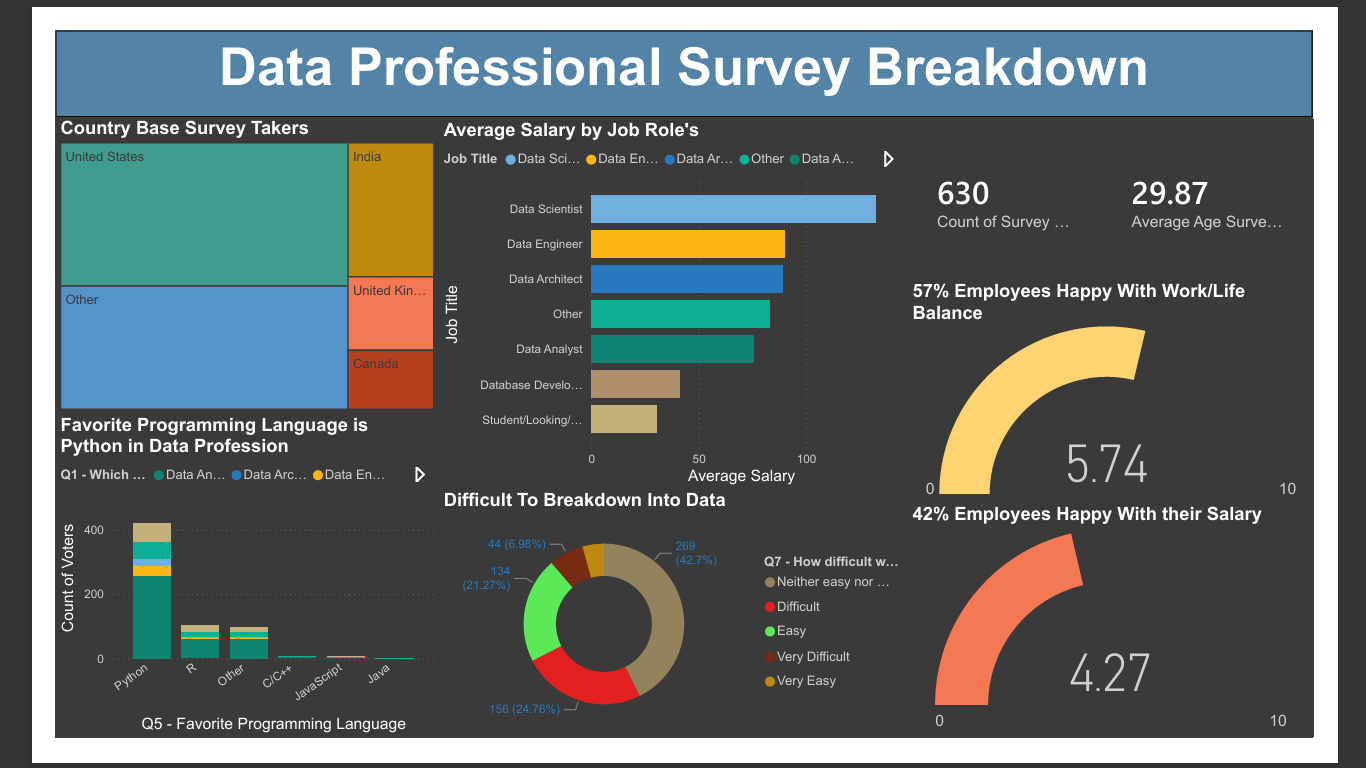

Layout of this report page (visuals, bound fields, positions):
{"tool":"powerbi","page":{"name":"Page 1","canvas":[1280,720],"ordinal":0},"visuals":[{"type":"textbox","box":[0,0,1278.8,88.5],"z":0},{"type":"cardVisual","fields":{"Data":["Avg(Data Professional Survey.Q10 - Current Age)"]},"box":[1065.4,90.4,215.4,163.5],"z":1000},{"type":"cardVisual","fields":{"Data":["Count(Data Professional Survey.Unique ID)"]},"box":[867.3,90.4,198.1,163.5],"z":2000},{"type":"barChart","title":" Average Salary by Job Role''s","fields":{"Category":["Data Professional Survey.Q1 - Which Title Best Fits your Current Role?.1"],"Y":["Avg(Data Professional Survey.Average Salary)"],"Series":["Data Professional Survey.Q1 - Which Title Best Fits your Current Role?.1"]},"box":[390.4,90.4,476.9,376.9],"z":3000},{"type":"columnChart","title":"Favorite Programming Language is Python  in  Data Profession","fields":{"Y":["CountNonNull(Data Professional Survey.Unique ID)"],"Category":["Data Professional Survey.Q5 - Favorite Programming Language.1"],"Series":["Data Professional Survey.Q1 - Which Title Best Fits your Current Role?.1"]},"box":[0,390.4,390.4,328.8],"z":4000},{"type":"treemap","title":"Country Base Survey Takers","fields":{"Group":["Data Professional Survey.Q11 - Which Country do you live in?.1"],"Values":["CountNonNull(Data Professional Survey.Q11 - Which Country do you live in?.1)"]},"box":[0,88.5,390.4,301.9],"z":5000},{"type":"gauge","title":"57% Employees Happy With Work/Life Balance","fields":{"Y":["Avg(Data Professional Survey.Q6 - How Happy are you in your Current Position with the following? (Work/Life Balance))"],"MinValue":["Min(Data Professional Survey.Q6 - How Happy are you in your Current Position with the following? (Work/Life Balance))1"],"MaxValue":["Max(Data Professional Survey.Q6 - How Happy are you in your Current Position with the following? (Work/Life Balance))2"]},"box":[867.3,253.8,413.5,226.9],"z":6000},{"type":"gauge","title":"42% Employees Happy With their Salary ","fields":{"Y":["Avg(Data Professional Survey.Q6 - How Happy are you in your Current Position with the following? (Salary))"],"MinValue":["Min(Data Professional Survey.Q6 - How Happy are you in your Current Position with the following? (Salary))1"],"MaxValue":["Max(Data Professional Survey.Q6 - How Happy are you in your Current Position with the following? (Salary))2"]},"box":[867.3,480.8,413.5,238.5],"z":7000},{"type":"donutChart","title":"Difficult To Breakdown Into Data","fields":{"Category":["Data Professional Survey.Q7 - How difficult was it for you to break into Data?"],"Y":["CountNonNull(Data Professional Survey.Average Salary)"]},"box":[390.4,467.3,476.9,251.9],"z":8000}]}

Visuals, with their boxes in screenshot pixels (x1, y1, x2, y2), scaled from the page's 1280x720 canvas onto the 1366x768 screenshot:
textbox: {"left": 0, "top": 0, "right": 1365, "bottom": 94}
cardVisual - Avg(Data Professional Survey.Q10 - Current Age): {"left": 1137, "top": 96, "right": 1365, "bottom": 271}
cardVisual - Count(Data Professional Survey.Unique ID): {"left": 926, "top": 96, "right": 1137, "bottom": 271}
" Average Salary by Job Role''s" barChart: {"left": 417, "top": 96, "right": 926, "bottom": 498}
"Favorite Programming Language is Python  in  Data Profession" columnChart: {"left": 0, "top": 416, "right": 417, "bottom": 767}
"Country Base Survey Takers" treemap: {"left": 0, "top": 94, "right": 417, "bottom": 416}
"57% Employees Happy With Work/Life Balance" gauge: {"left": 926, "top": 271, "right": 1365, "bottom": 513}
"42% Employees Happy With their Salary " gauge: {"left": 926, "top": 513, "right": 1365, "bottom": 767}
"Difficult To Breakdown Into Data" donutChart: {"left": 417, "top": 498, "right": 926, "bottom": 767}
